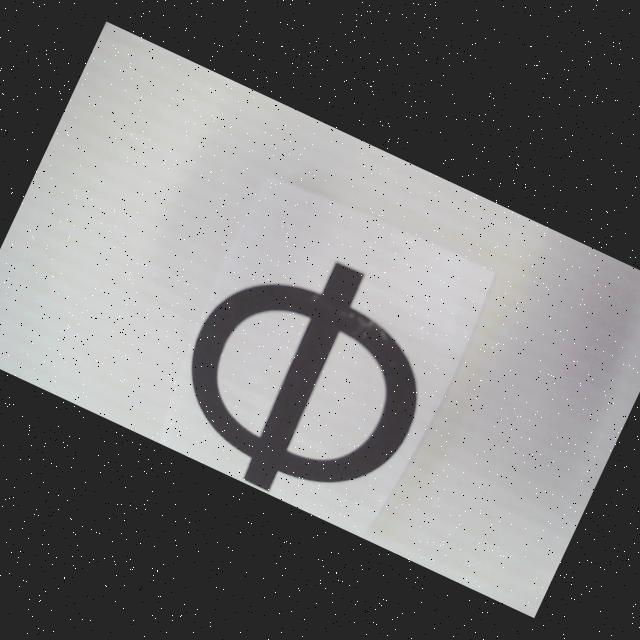PHI: (151, 220, 462, 535)
